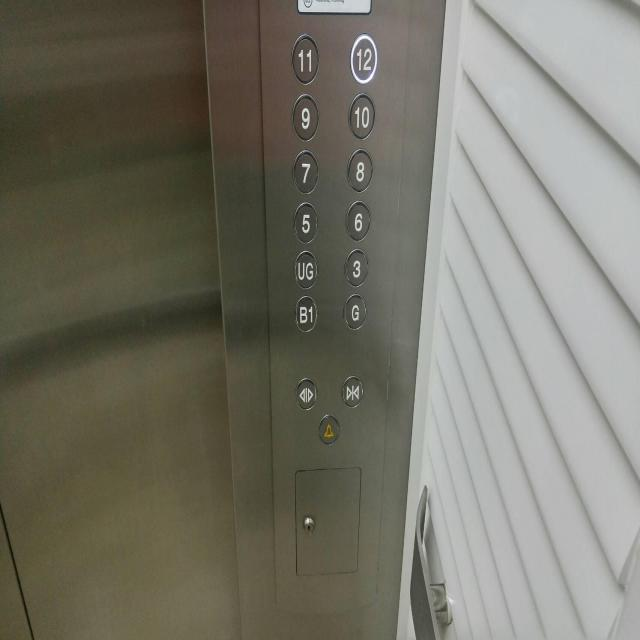10: (346, 90, 376, 142)
11: (290, 28, 320, 86)
12: (348, 31, 378, 86)
3: (343, 246, 369, 290)
5: (291, 197, 319, 245)
6: (344, 197, 371, 243)
7: (291, 145, 319, 195)
8: (345, 145, 373, 194)
9: (290, 89, 320, 143)
B1: (292, 292, 318, 335)
G: (342, 290, 368, 332)
UG: (292, 247, 318, 290)
alarm: (317, 412, 340, 448)
close: (340, 372, 364, 410)
keyhole: (300, 512, 316, 538)
open: (294, 374, 317, 412)
